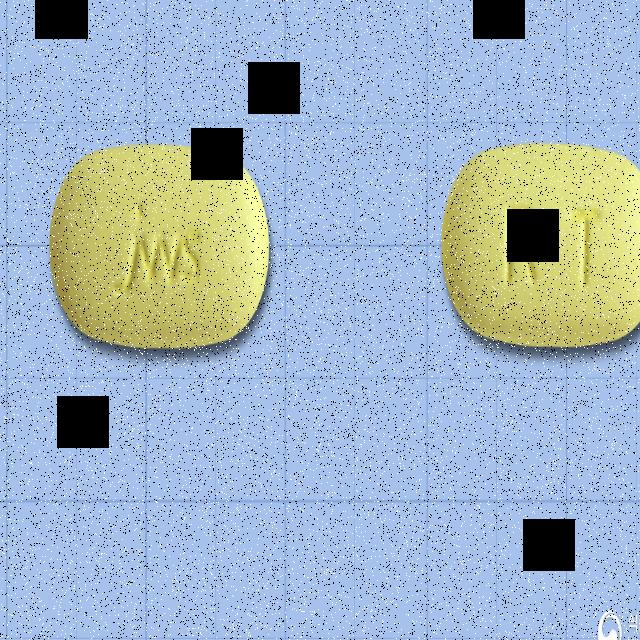Liamclo: (51, 144, 269, 349), (440, 143, 640, 346)
